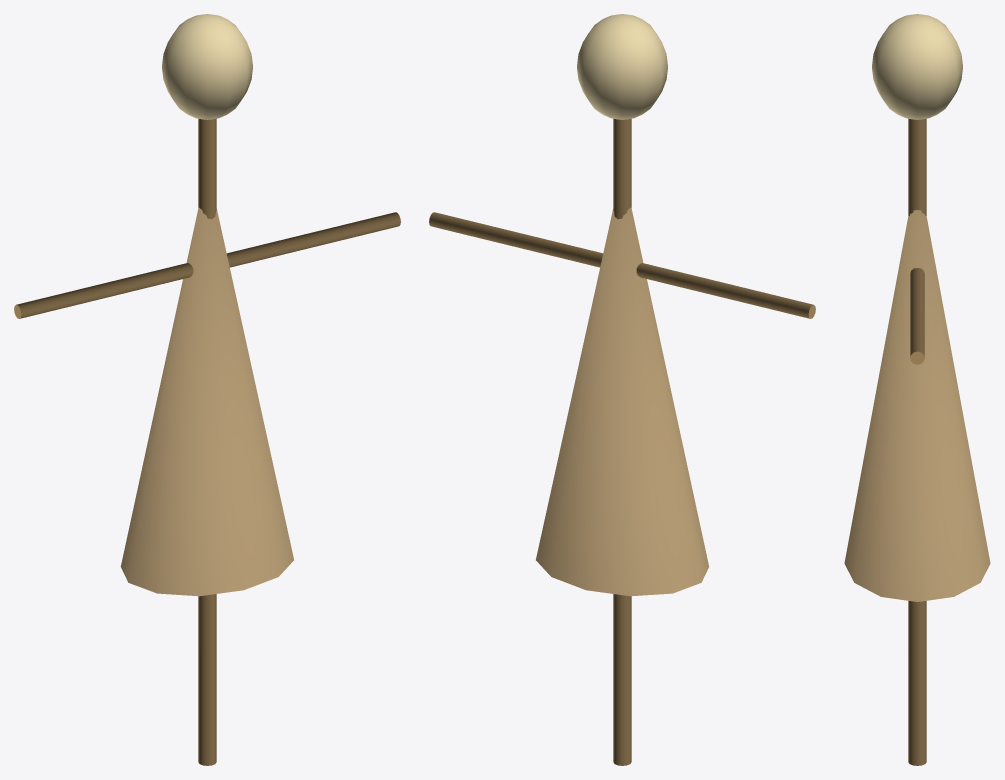
File: env-med-scarecrow.glb
3 renders of one model, left to right at view 1: azimuth 30°, elevation 25°; view 2: azimuth 150°, elevation 25°; view 3: azimuth 270°, elevation 25°, orthographic.
Size of the model in its own units: 1.2 by 2.25 by 0.4.
